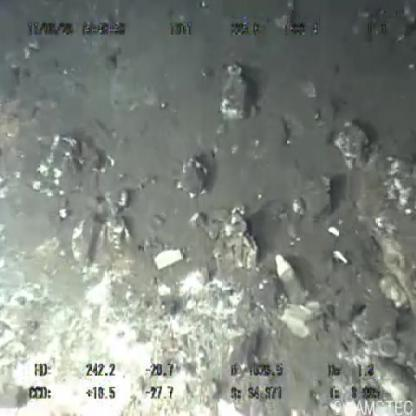Rác: (276, 254, 308, 309)
